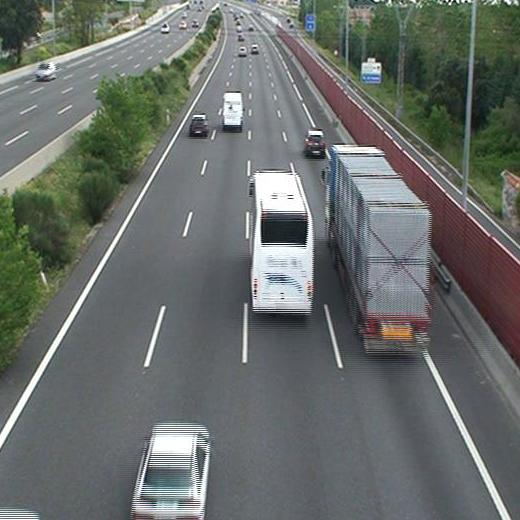bus: (249, 171, 313, 312)
car: (131, 423, 210, 520), (305, 131, 326, 156), (190, 116, 207, 134), (238, 46, 247, 58), (251, 46, 258, 53)
truck: (326, 145, 429, 353)
van: (223, 92, 243, 127)
